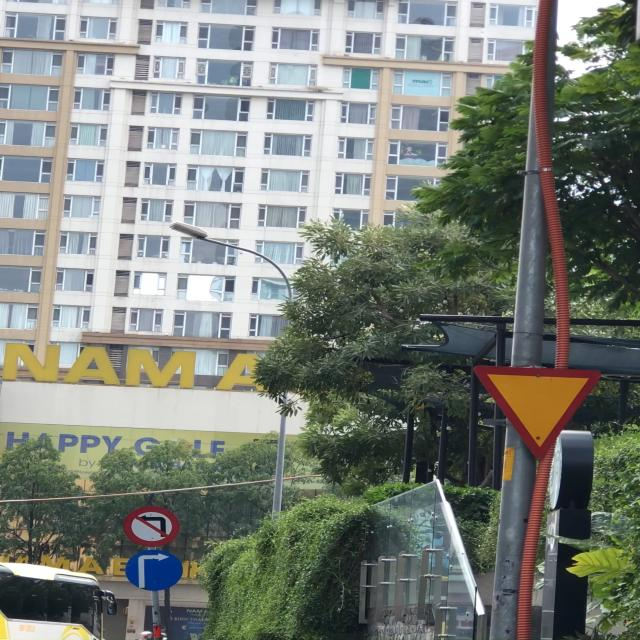Bien bao cam re trai: (122, 503, 182, 549)
Bien bao giao nhau voi duong uu tien: (466, 360, 599, 465)
Bien bao huong di phai theo: (121, 549, 185, 595)
